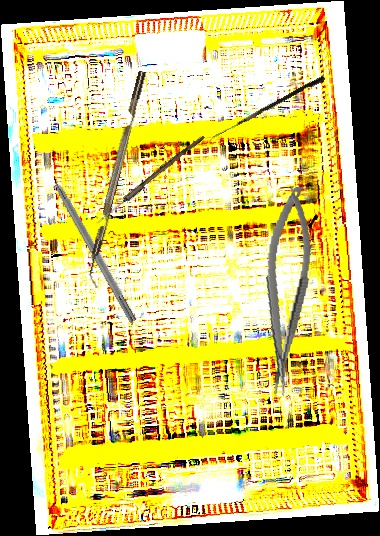Chopper: (81, 70, 157, 289)
Hook Surgical: (41, 159, 139, 324), (211, 73, 326, 144)
Needle Holder: (250, 184, 321, 397)
Surgical Spoon: (94, 132, 206, 227)
